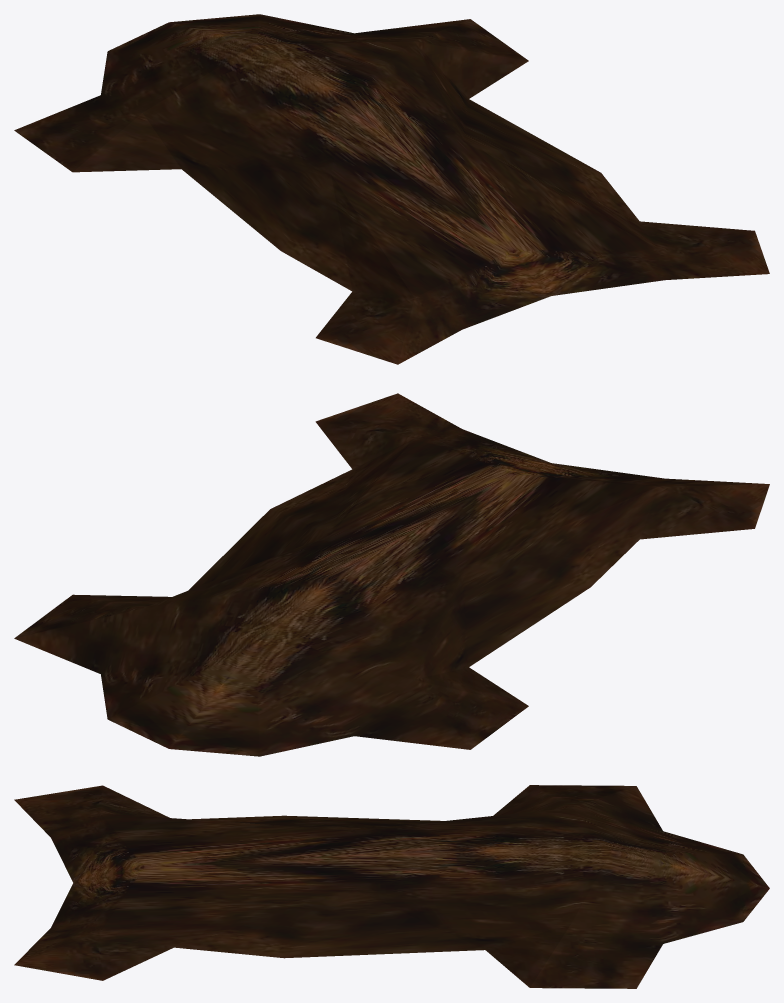
The model's file is ITAT_WARGFUR_G.glb.
3 renders of one model, top to bottom at view 1: azimuth 30°, elevation 25°; view 2: azimuth 150°, elevation 25°; view 3: azimuth 270°, elevation 25°, orthographic. The views are drawn at different scales.
Parts seen in each view (by area): view 1: ITAT_WARGFUR_G; view 2: ITAT_WARGFUR_G; view 3: ITAT_WARGFUR_G.
Part boxes in pixels (x1=…): ITAT_WARGFUR_G: x1=14, y1=14, x2=769, y2=364; ITAT_WARGFUR_G: x1=14, y1=393, x2=769, y2=756; ITAT_WARGFUR_G: x1=14, y1=785, x2=769, y2=988.
Bounding box in the file's own units: 1.08 × 0.1031 × 1.7.
1 material, 1 textured.
